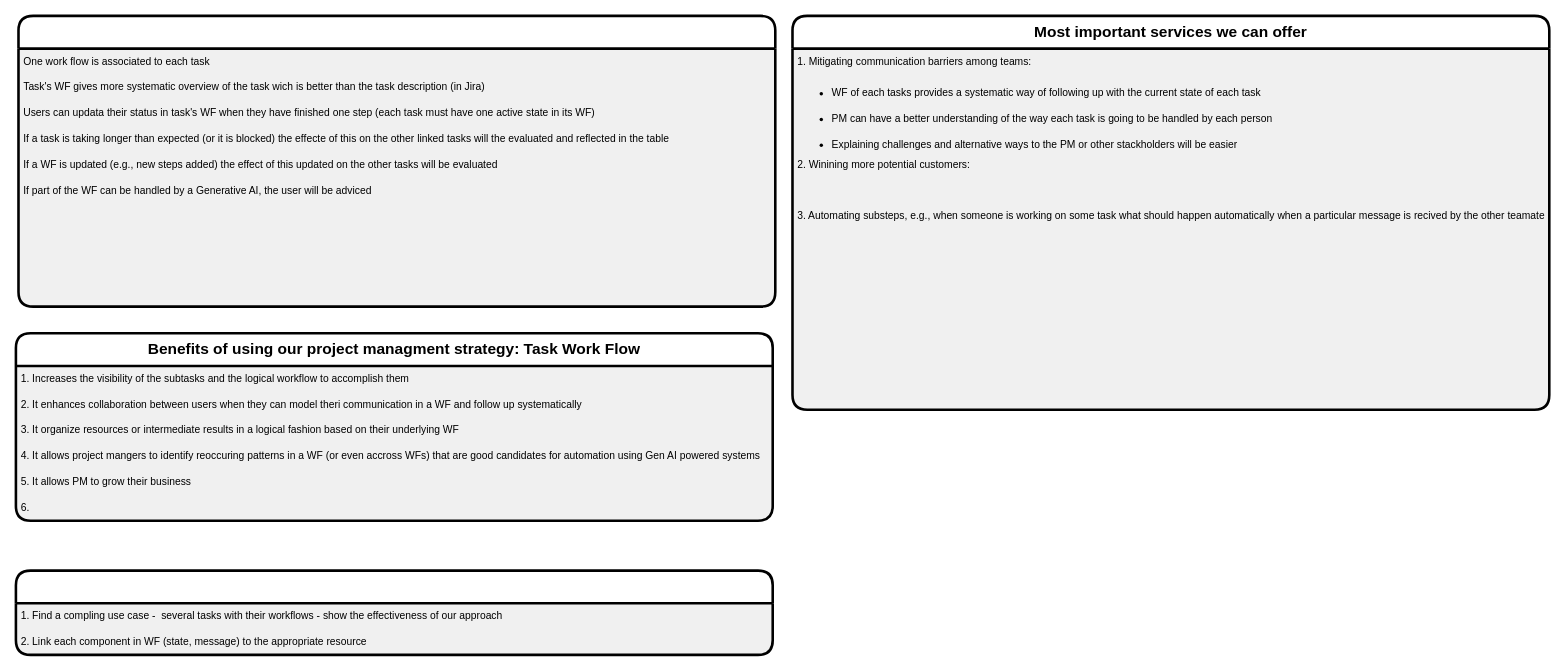
Image size: 1565x671. Some labels were removed from this diagram. Each missing label, with the box of its shape:
Sprint Tracker - Task Work Flow: (17, 14, 776, 307)
Task break donw: (14, 569, 774, 656)
